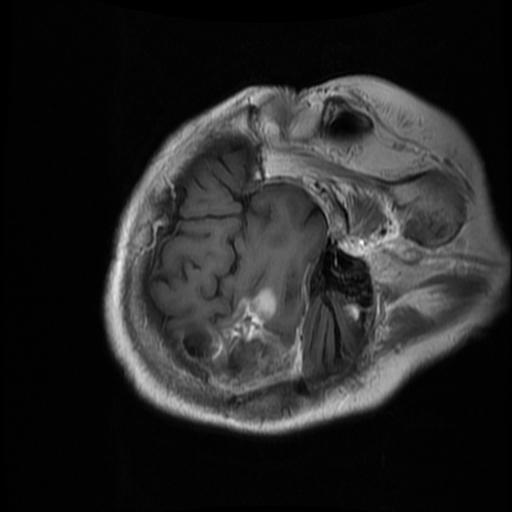glioma: (182, 285, 293, 390)
